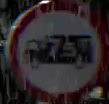Heavy Vehicles: (5, 4, 102, 103)
